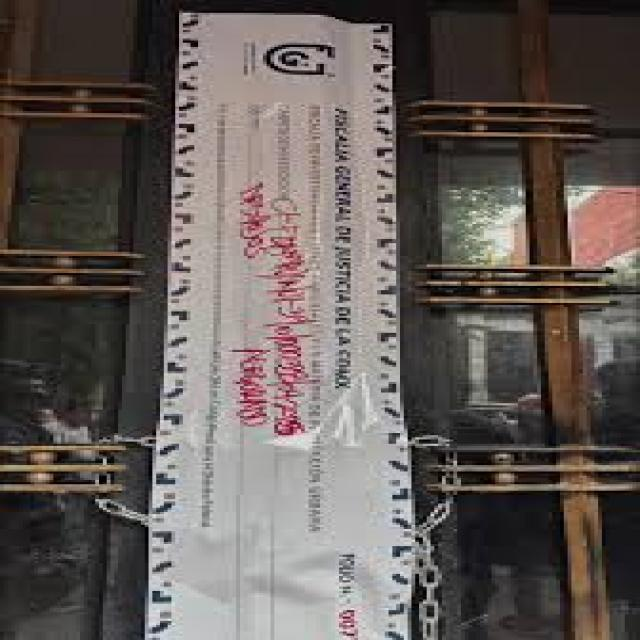stamps: (151, 19, 403, 638)
